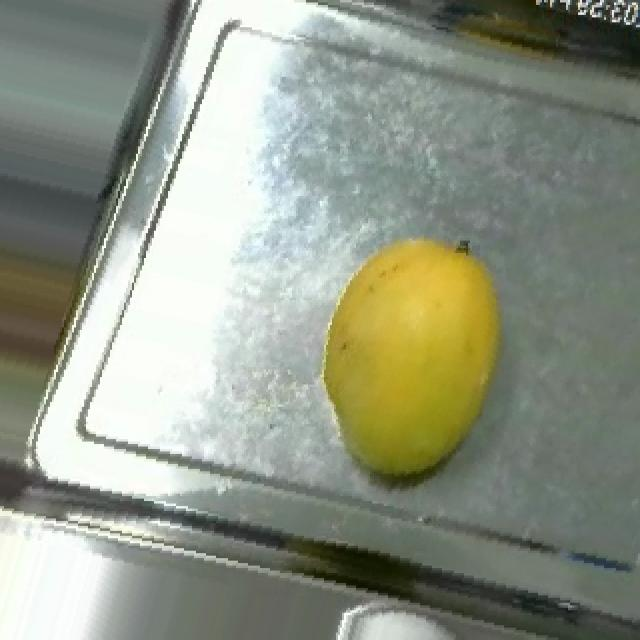fruit: (264, 196, 566, 511)
